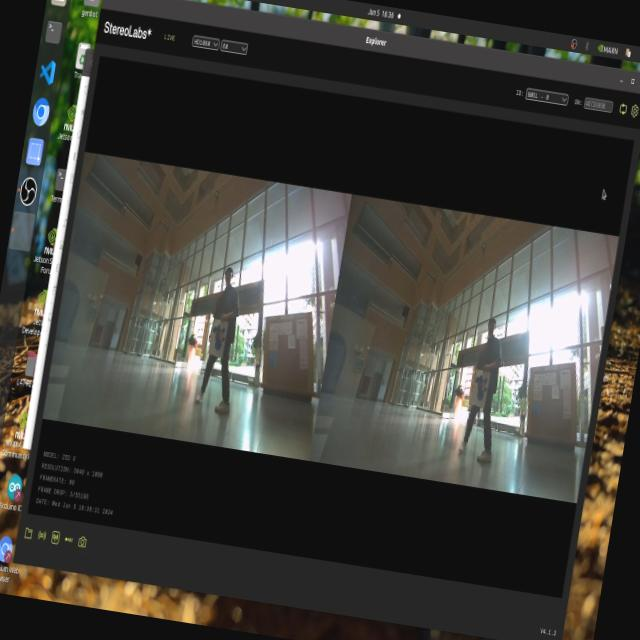blue: (204, 318, 235, 364), (467, 368, 494, 412)
